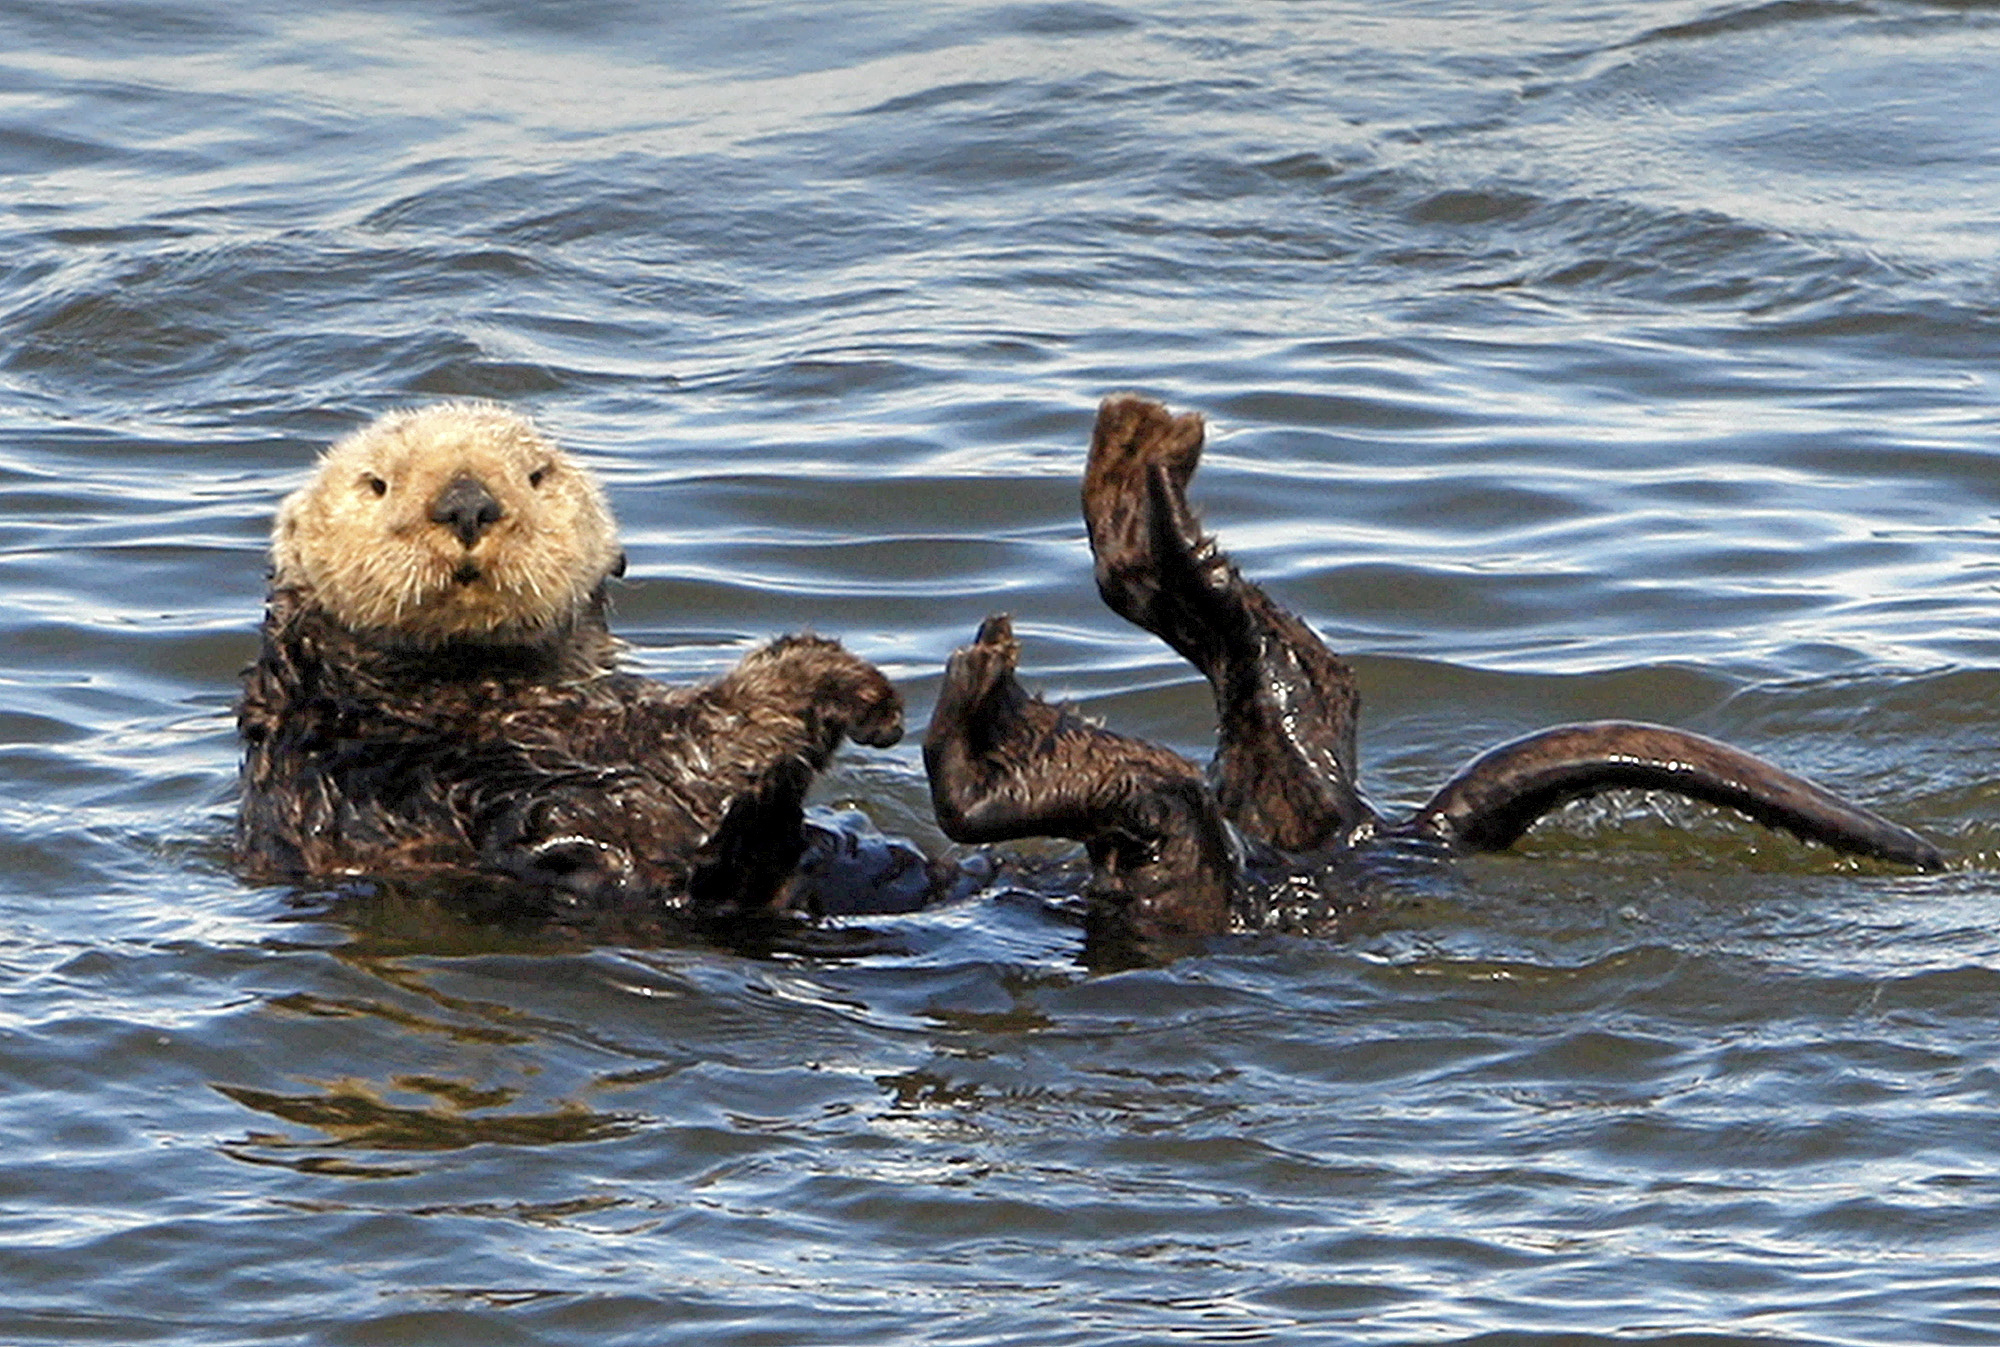otter: (227, 341, 867, 922)
